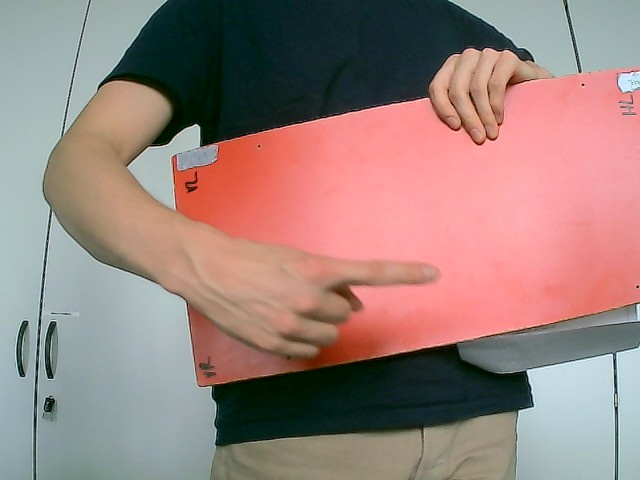left: (183, 228, 442, 361)
no_gesture: (423, 46, 556, 144)
